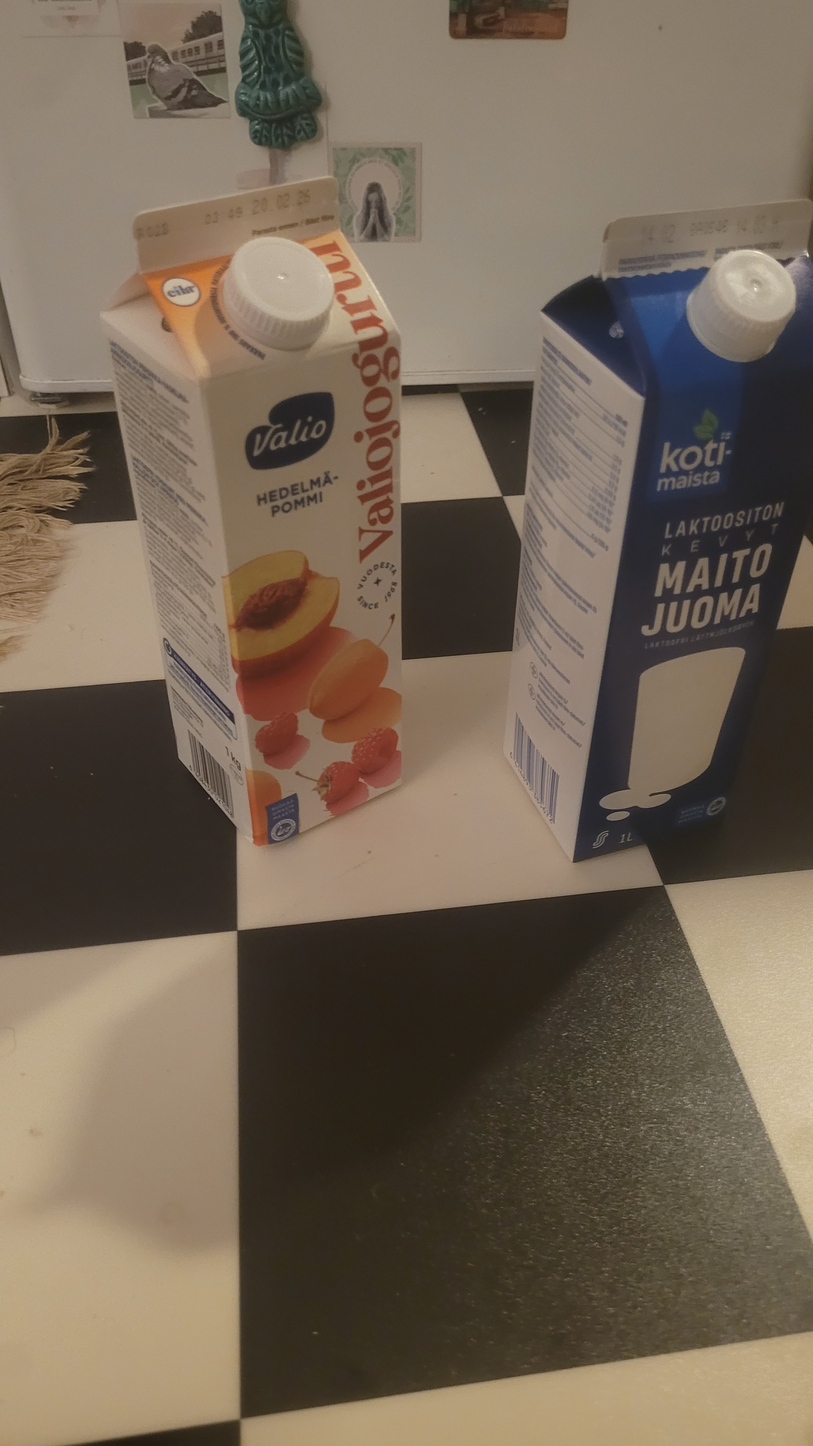Dryckeskartong: (97, 174, 406, 847), (503, 202, 807, 863)
